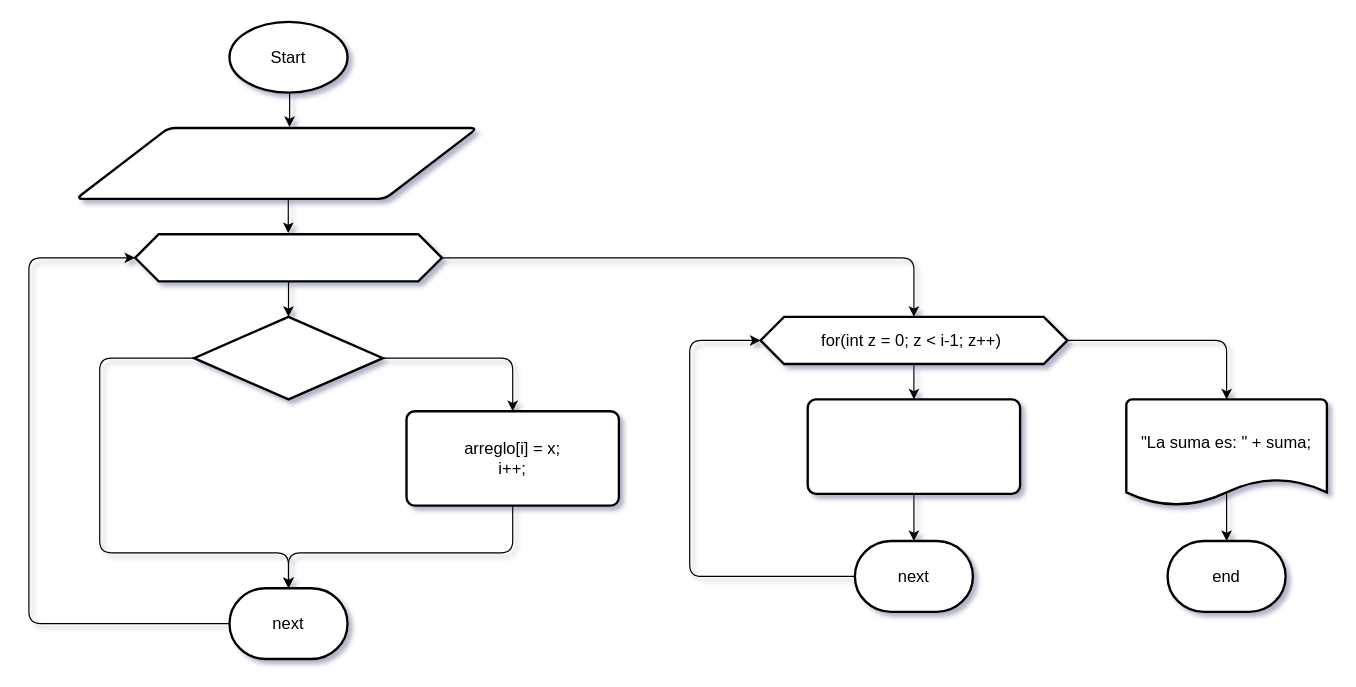
This 1356x687 diagram has some shape labels left out. Each missing label, with the centre of its shape:
"for(int x = 0; x < arreglo.length; x++)" belongs at point 287,257.
"int [ ] arreglo = new int[100]; int i = 0; int suma = 0;" belongs at point 276,162.
"suma = suma + i;" belongs at point 913,446.
"x % 2 == 0" belongs at point 288,357.
